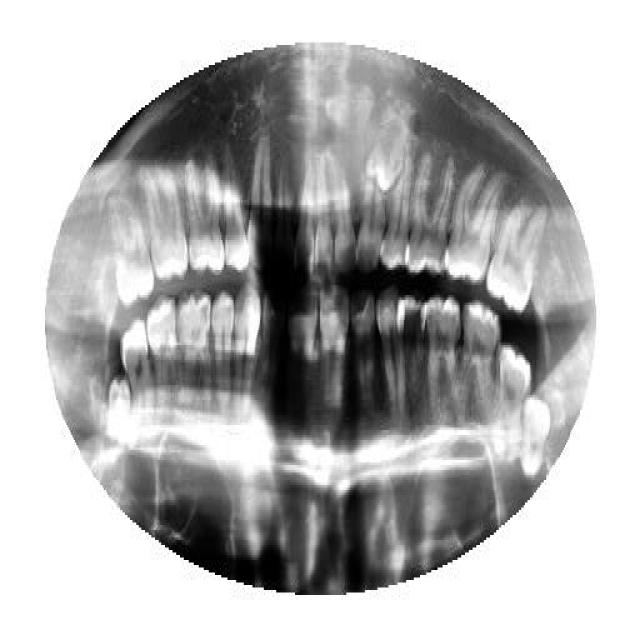Impacted Tooth: (520, 392, 554, 480)
